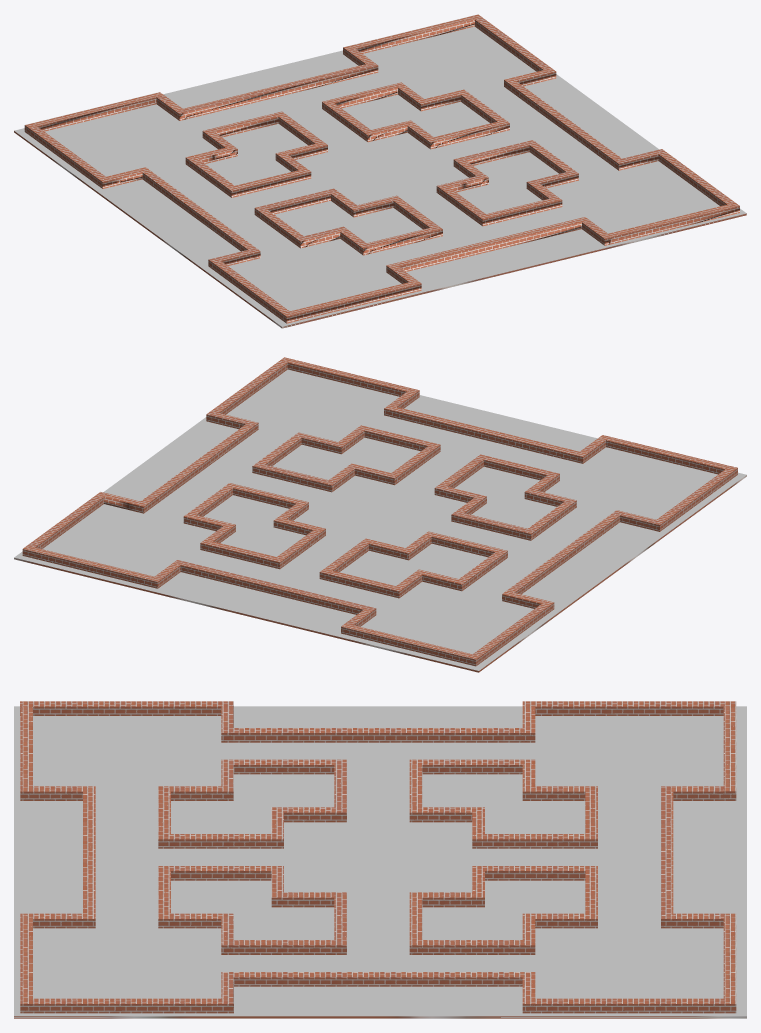
Rendered from Maze.obj.
3 views of the same model, one above another, from view 1: azimuth 30°, elevation 25°; view 2: azimuth 150°, elevation 25°; view 3: azimuth 270°, elevation 25° (orthographic). The views are drawn at different scales.
Visible parts, largest first — view 1: Cube_Floor, Cube_Material.001; view 2: Cube_Floor, Cube_Material.001; view 3: Cube_Floor, Cube_Material.001.
Boxes of the visible parts, x1,y1,x2,y2 form: Cube_Floor: [14, 26, 746, 326]; Cube_Material.001: [14, 14, 746, 328]; Cube_Floor: [14, 369, 746, 670]; Cube_Material.001: [14, 357, 746, 672]; Cube_Floor: [14, 706, 746, 1016]; Cube_Material.001: [14, 701, 746, 1018].
Bounding box in the file's own units: 58.43 × 1.04 × 58.36.
2 materials, 1 textured.
